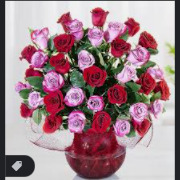RedRose: (43, 92, 66, 114), (83, 66, 107, 87), (109, 35, 131, 57), (53, 33, 75, 52), (138, 31, 158, 51), (108, 84, 127, 105), (92, 111, 111, 132), (50, 55, 71, 74), (136, 74, 156, 93), (42, 116, 62, 134)
